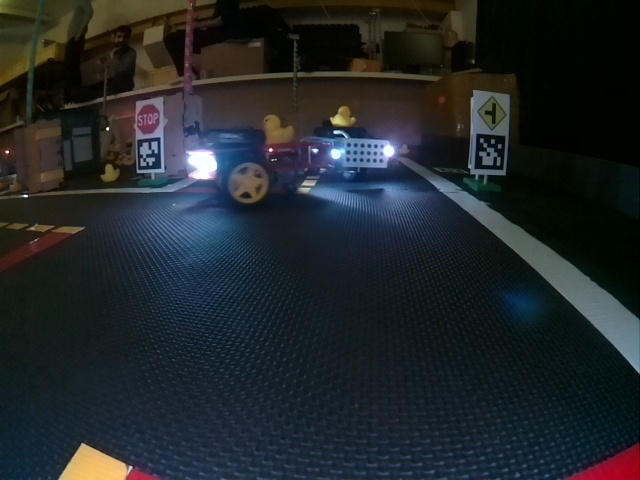Duckie: (261, 114, 294, 143), (330, 108, 357, 127), (102, 162, 120, 181)
Duckiebot: (187, 142, 316, 211), (306, 128, 392, 178)
Stop sign: (135, 101, 162, 134)
